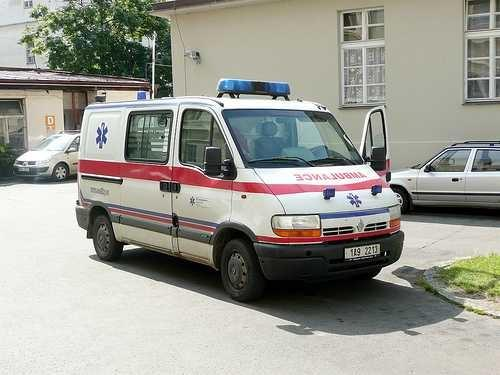car: (74, 77, 404, 302)
